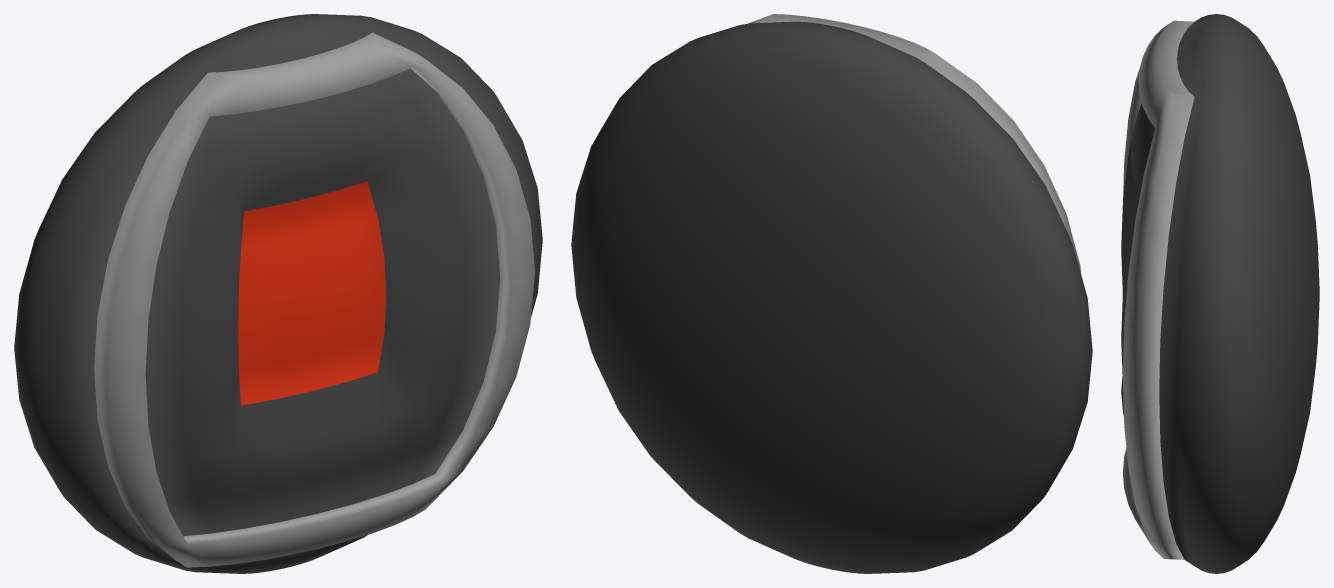
Rendered from target.fbx.
3 renders of one model, left to right at view 1: azimuth 30°, elevation 25°; view 2: azimuth 150°, elevation 25°; view 3: azimuth 270°, elevation 25°, orthographic. The views are drawn at different scales.
Visible parts, largest first — view 1: Sphere; view 2: Sphere; view 3: Sphere.
Part boxes in pixels (x1,y1,x2,y2): Sphere: [14, 14, 542, 573]; Sphere: [571, 14, 1092, 573]; Sphere: [1121, 14, 1319, 573].
Size of the model in its own units: 200 by 200 by 70.87.
